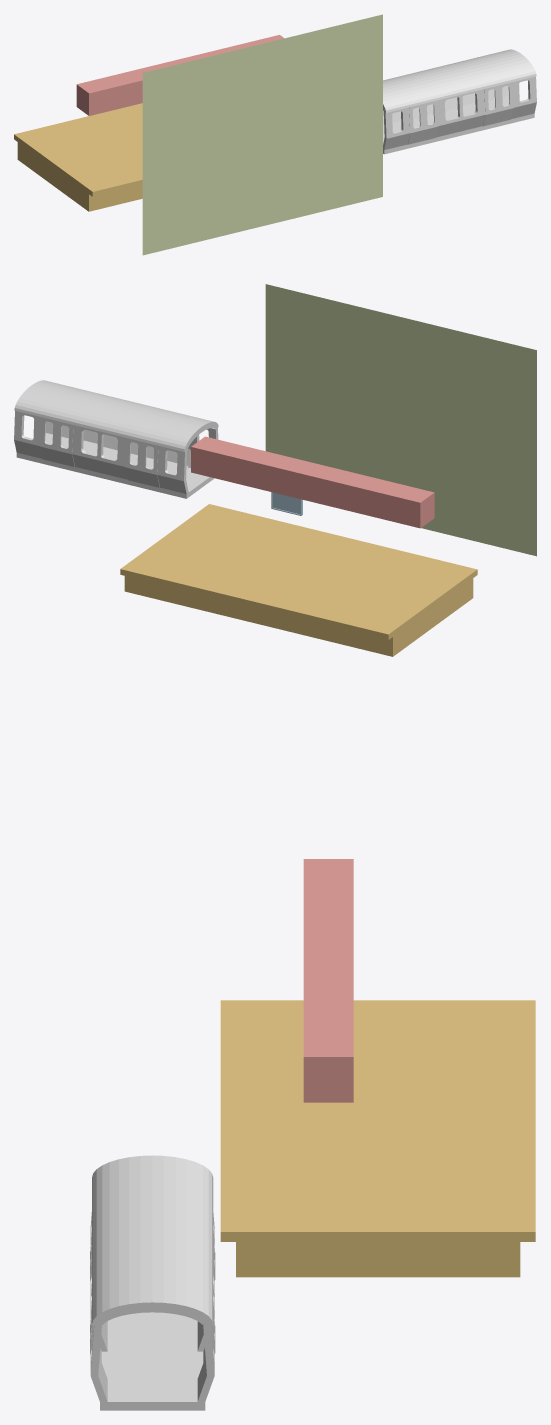
The model's file is Transit-01.gltf.
The picture shows the model from 3 angles, top to bottom: view 1: azimuth 30°, elevation 25°; view 2: azimuth 150°, elevation 25°; view 3: azimuth 270°, elevation 25°; orthographic projection. The views are drawn at different scales.
Visible parts, largest first — view 1: Wall-Plane, Train-Complete, Platform, Roof.002; view 2: Wall-Plane, Platform, Train-Complete, Roof.002, Screen; view 3: Platform, Train-Complete, Roof.002.
Boxes of the visible parts, box(x1,y1,x2,y2) form: Wall-Plane: box(142, 14, 382, 255); Train-Complete: box(383, 49, 536, 154); Platform: box(14, 103, 142, 211); Roof.002: box(76, 35, 284, 115); Wall-Plane: box(265, 284, 536, 556); Platform: box(120, 504, 477, 656); Train-Complete: box(14, 380, 218, 498); Roof.002: box(191, 436, 434, 528); Screen: box(271, 492, 302, 515); Platform: box(220, 1000, 535, 1277); Train-Complete: box(90, 1155, 215, 1410); Roof.002: box(303, 859, 353, 1102).
Bounding box in the file's own units: 38.11 × 16.09 × 20.77.
